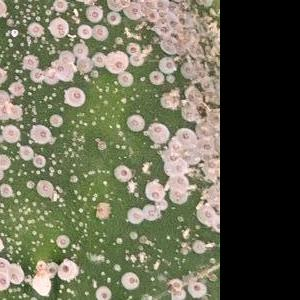Femea: (164, 129, 217, 175), (163, 80, 218, 121), (145, 23, 189, 55), (106, 0, 159, 24), (150, 57, 197, 83), (160, 0, 195, 25), (0, 253, 21, 294), (65, 88, 84, 107), (50, 17, 67, 37), (84, 5, 103, 20), (26, 21, 43, 37), (53, 61, 70, 77), (127, 115, 142, 133), (108, 52, 123, 70), (144, 184, 160, 200), (32, 125, 48, 140), (92, 26, 108, 40), (1, 125, 17, 139), (149, 123, 163, 138), (114, 164, 128, 179), (36, 181, 51, 195), (21, 56, 38, 68), (90, 53, 103, 66), (116, 73, 129, 85), (29, 69, 41, 81), (77, 26, 90, 37), (53, 0, 66, 11), (73, 44, 85, 55), (126, 43, 137, 54), (130, 55, 141, 63)
Linfa: (8, 204, 41, 230), (114, 235, 124, 245), (127, 230, 137, 240)
Macho: (69, 6, 80, 18), (152, 258, 161, 271)
